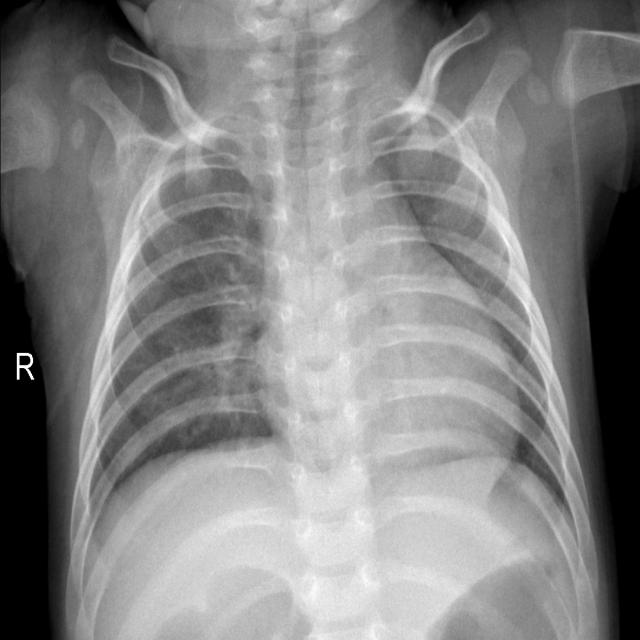normal_lung: (2, 4, 639, 640)
